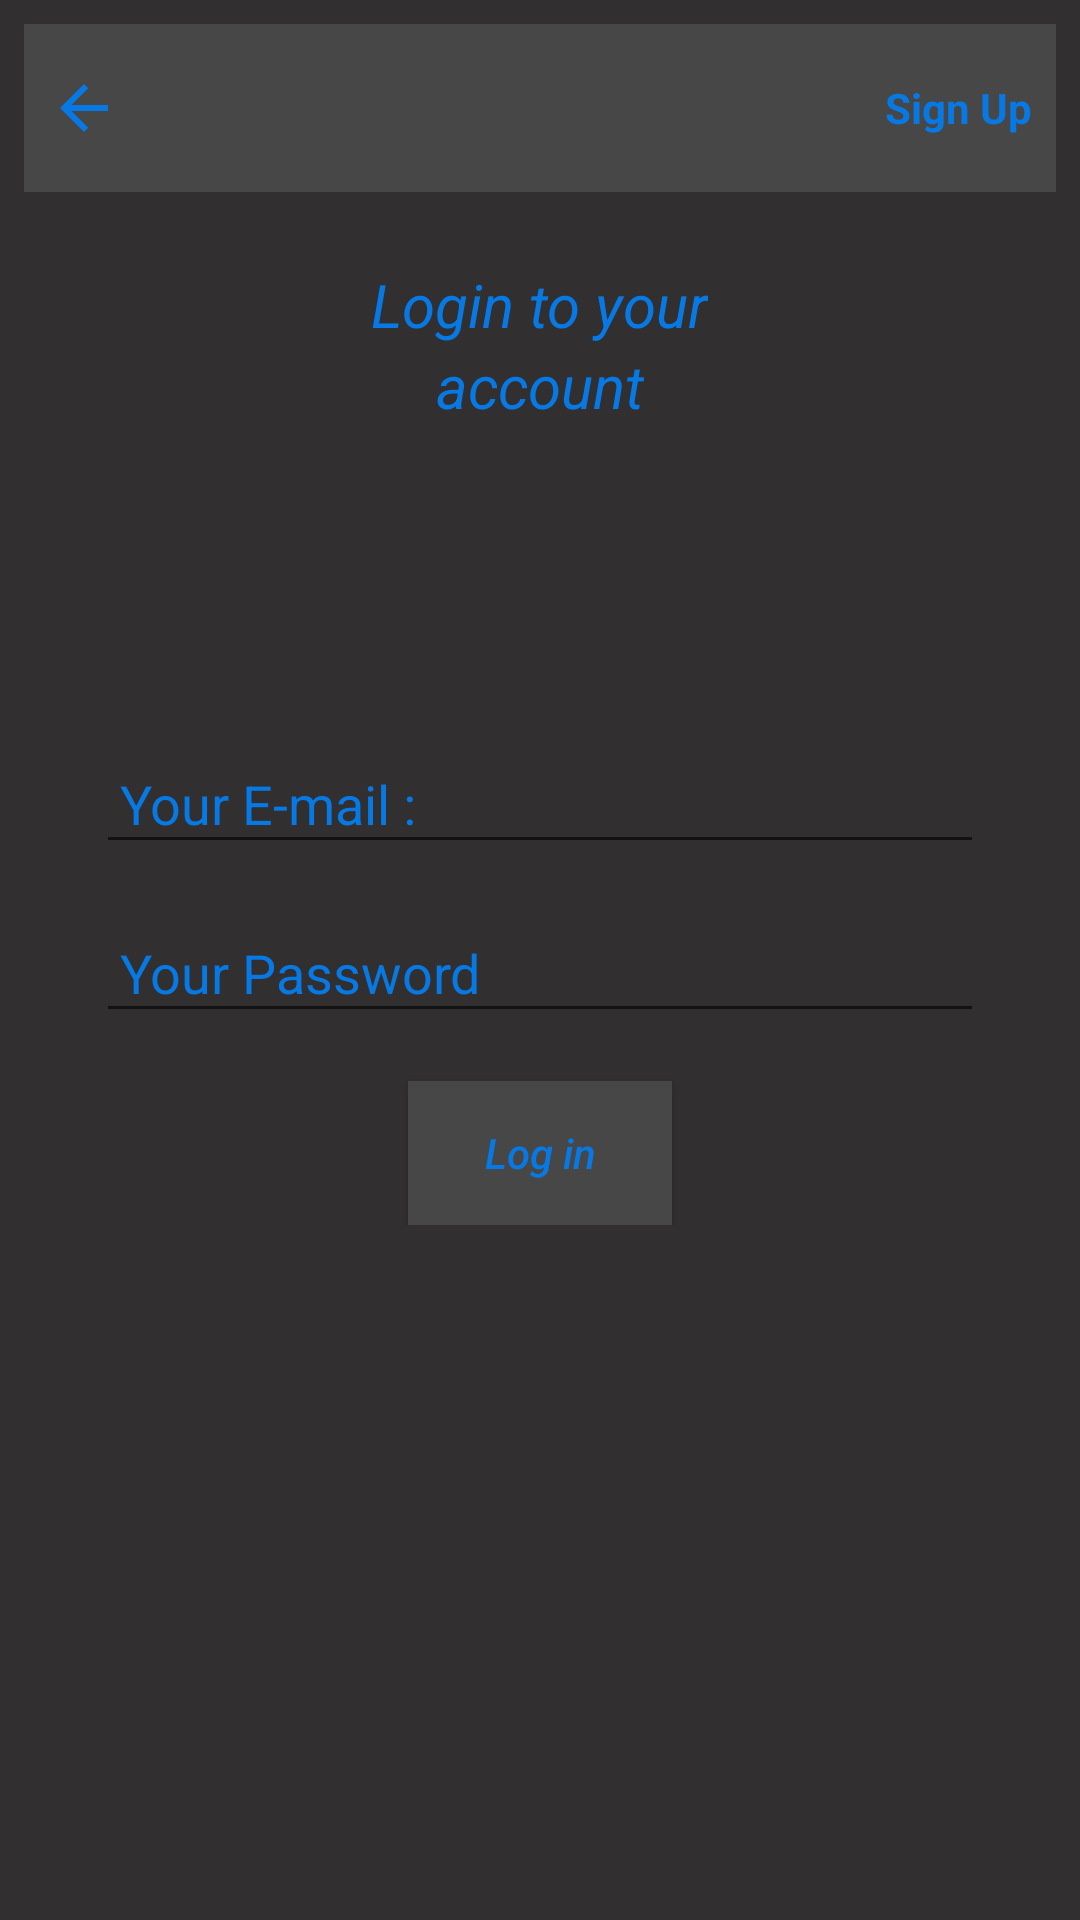

Icon bounding boxes for this 1080x1920 phone screenshot, format (left=x1, top=y1, right=x2, bottom=y2):
back: (left=60, top=84, right=108, bottom=132)
